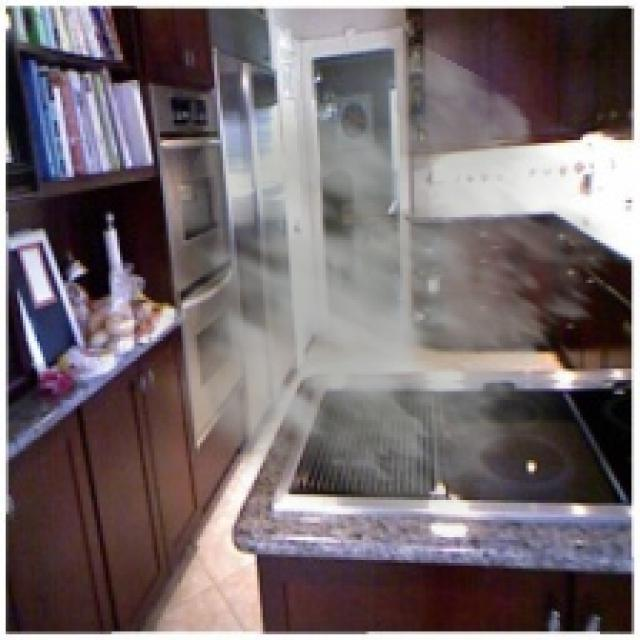Smoke: (89, 17, 628, 546)
